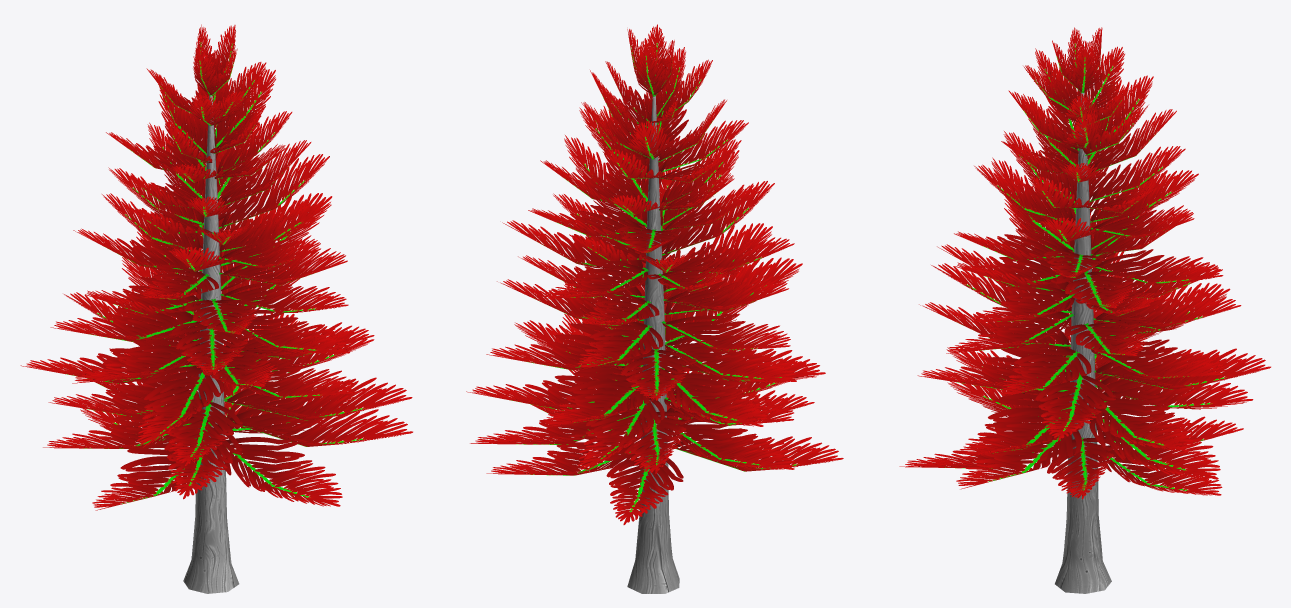
The model's file is Tree01.fbx.
3 renders of one model, left to right at view 1: azimuth 30°, elevation 25°; view 2: azimuth 150°, elevation 25°; view 3: azimuth 270°, elevation 25°, orthographic.
Visible parts, largest first — view 1: Tree01_LOD0; view 2: Tree01_LOD0; view 3: Tree01_LOD0.
Boxes of the visible parts, <box> form: Tree01_LOD0: <box>20,24,412,593</box>; Tree01_LOD0: <box>466,24,843,593</box>; Tree01_LOD0: <box>899,27,1270,593</box>.
Size of what is drawn, in the model's own units: 512 by 772 by 493.
